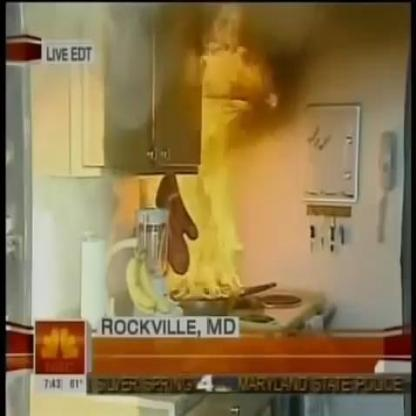fire: (156, 13, 275, 300)
